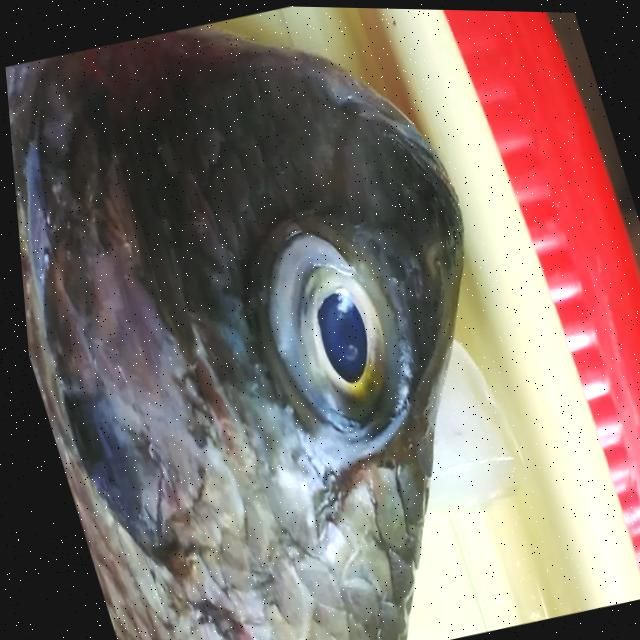Fresh: (215, 170, 438, 478)
